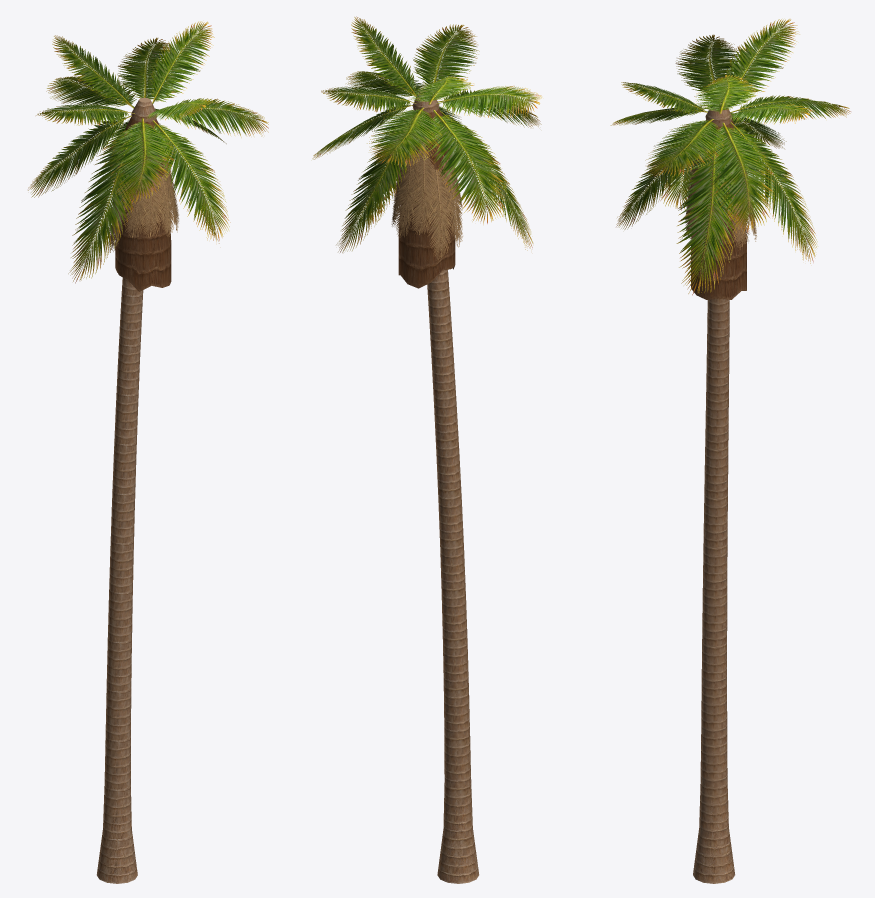
File: palm_tall.glb
The picture shows the model from 3 angles, left to right: view 1: azimuth 30°, elevation 25°; view 2: azimuth 150°, elevation 25°; view 3: azimuth 270°, elevation 25°; orthographic projection. The views are drawn at different scales.
Visible parts, largest first — view 1: palm_tall; view 2: palm_tall; view 3: palm_tall.
Part boxes in pixels (x1,y1,x2,y2): palm_tall: (28,21,268,883); palm_tall: (312,16,541,883); palm_tall: (610,19,850,883).
Bounding box in the file's own units: 4.38 × 15.28 × 4.41.
4 materials, 4 textured.
